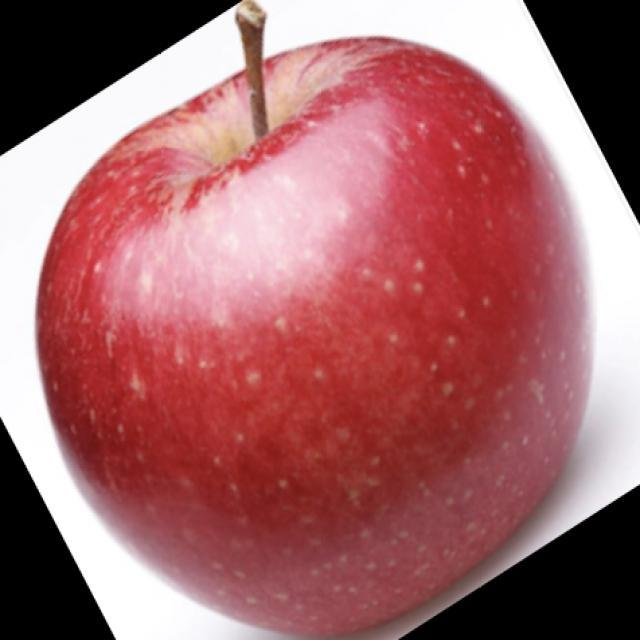Fresh Apple: (65, 43, 583, 632)
